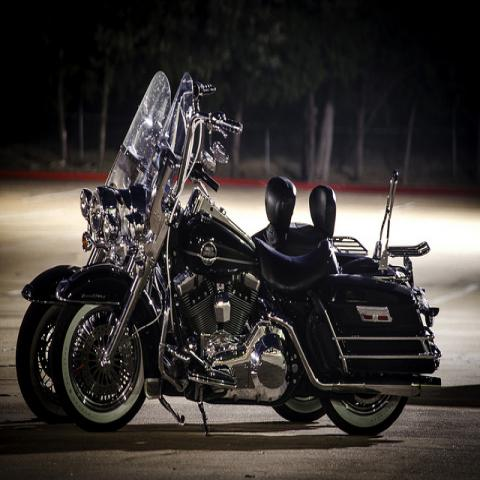motorcycle: (49, 68, 444, 443), (17, 72, 308, 425)
